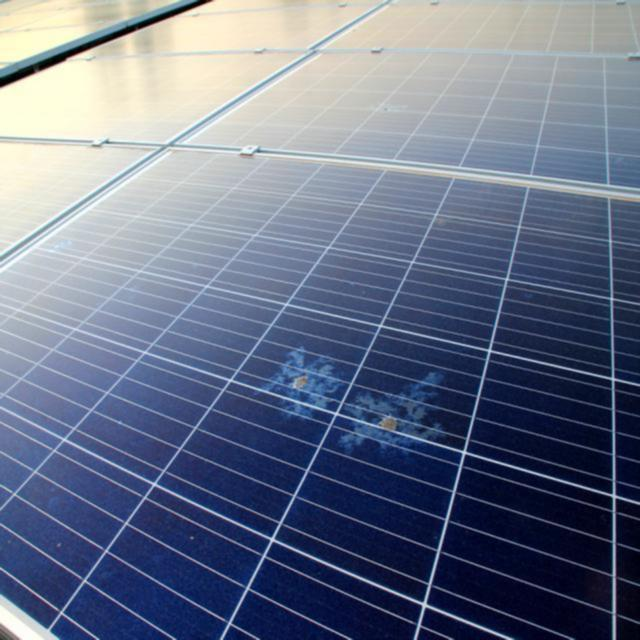soiled: (246, 332, 506, 502), (356, 88, 428, 140)
